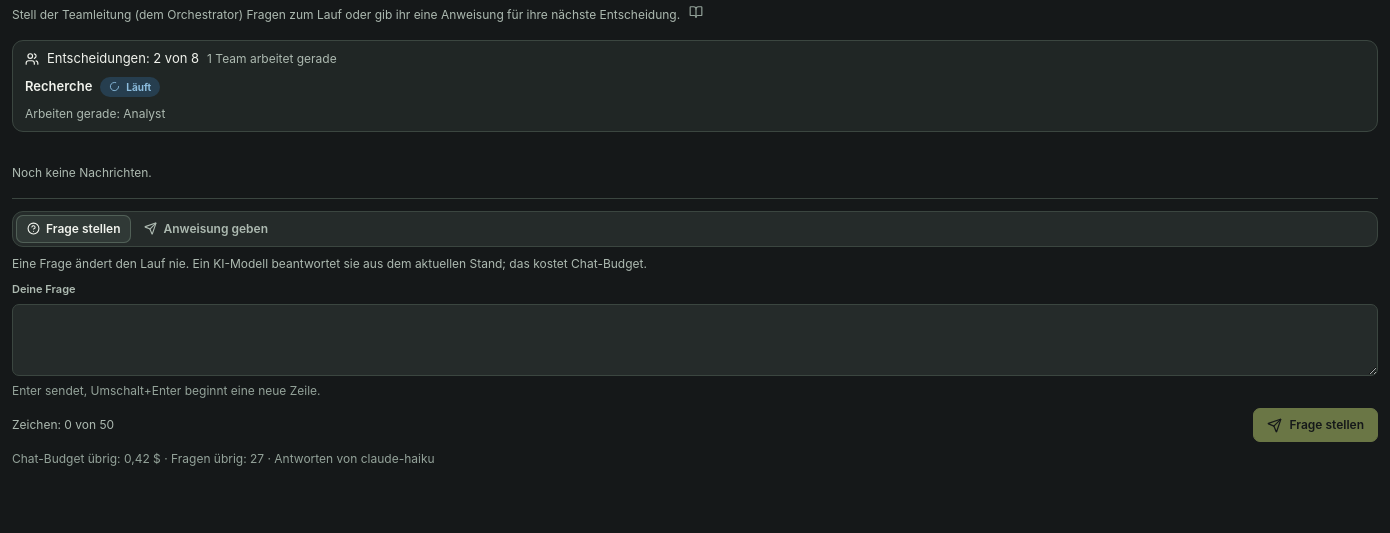
TeamLeaderChat › gives an instruction in its own mode and shows that it waits for the next decision
Click the radio button with test id "lrc-mode-instruction": [206, 228] box [134, 214, 279, 242]
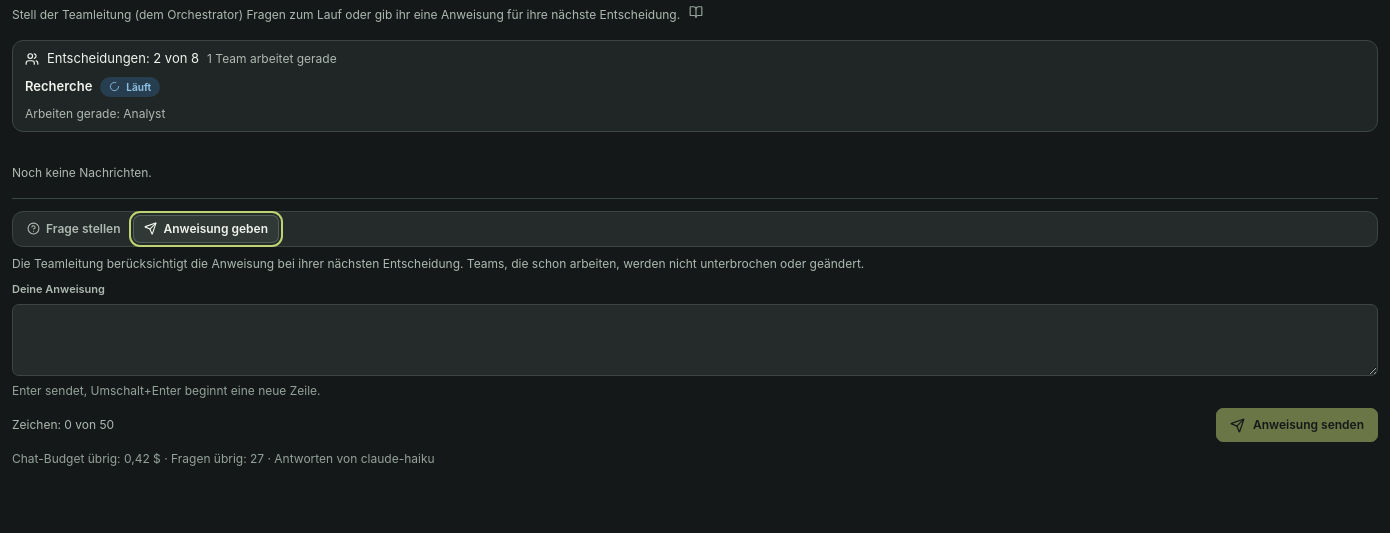
Now the text with test id "lrc-hint" shows "Teams, die schon arbeiten, werden nicht unterbrochen", box [12, 256, 864, 270]
Now the button with test id "lrc-send" reads "Anweisung senden", box [1216, 408, 1378, 442]
In the text box with test id "lrc-input": [695, 340] box [12, 304, 1378, 376], type "Kürzer"
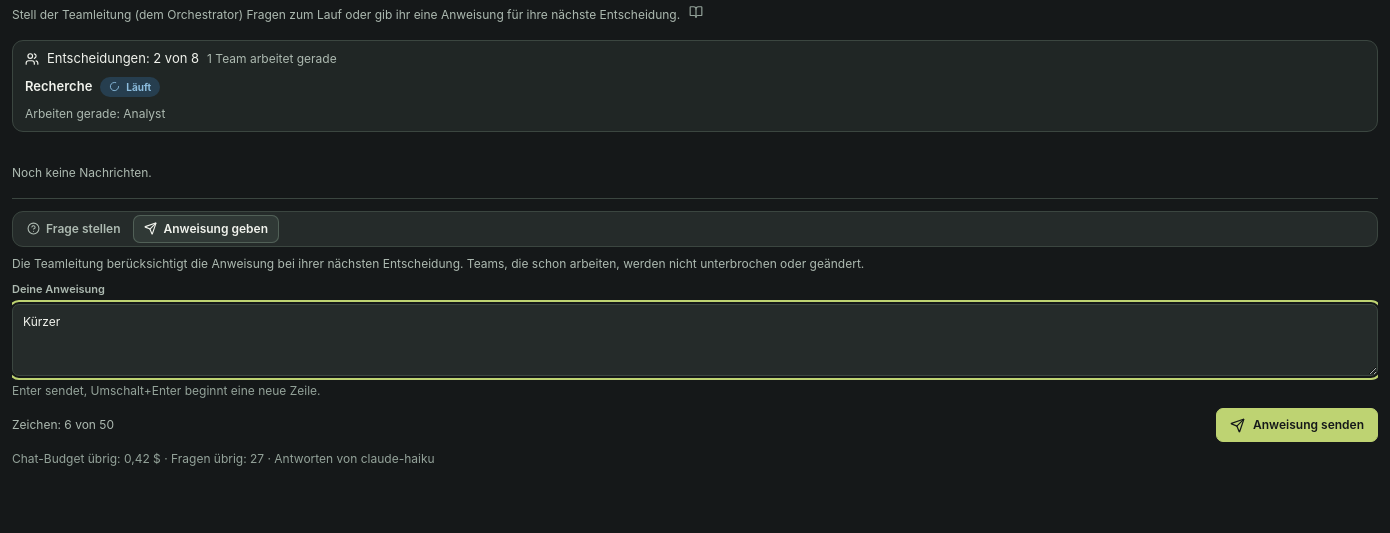
Click the button with test id "lrc-send": [1297, 425] box [1216, 408, 1378, 442]
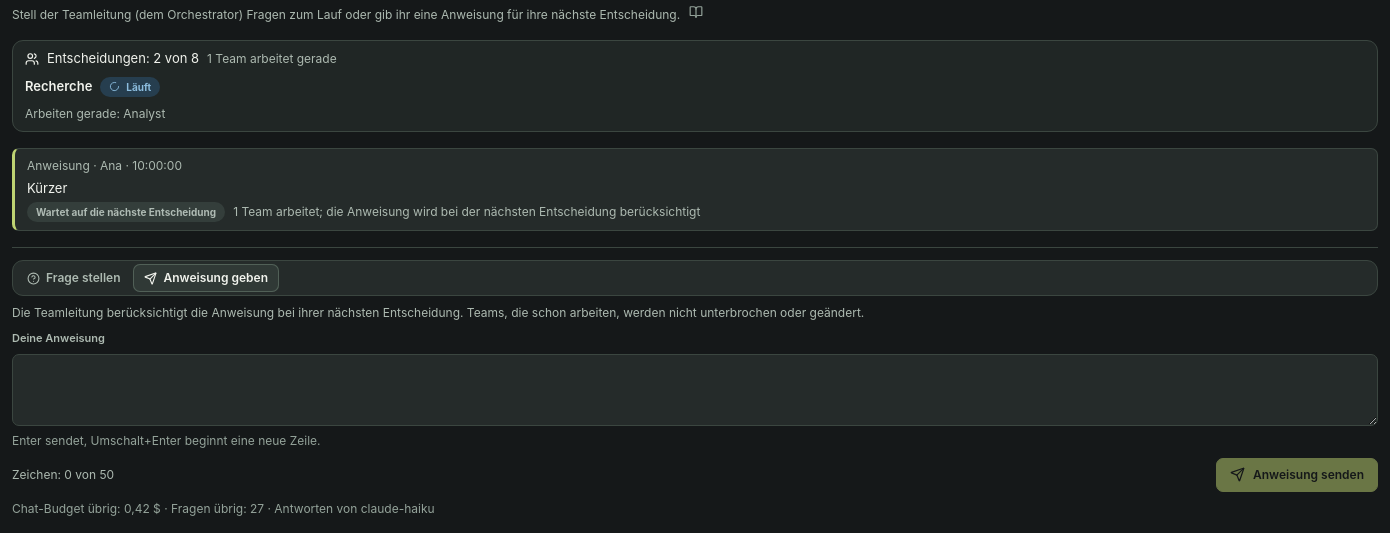
Now the text with test id "lrc-status" reads "Wartet auf die nächste Entscheidung", box [36, 206, 216, 218]
Now the text "1 Team arbeitet; die Anweisung wird bei der nächsten Entscheidung berücksichtigt" is shown, box [233, 203, 700, 221]
